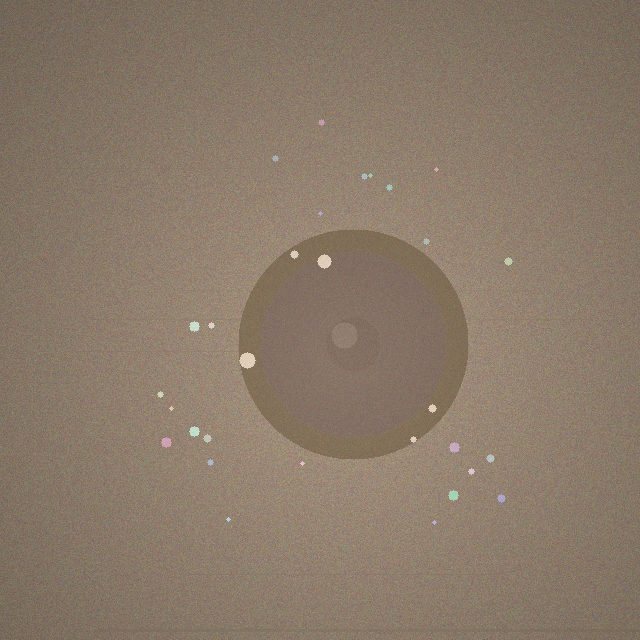overburn: (238, 229, 468, 459)
